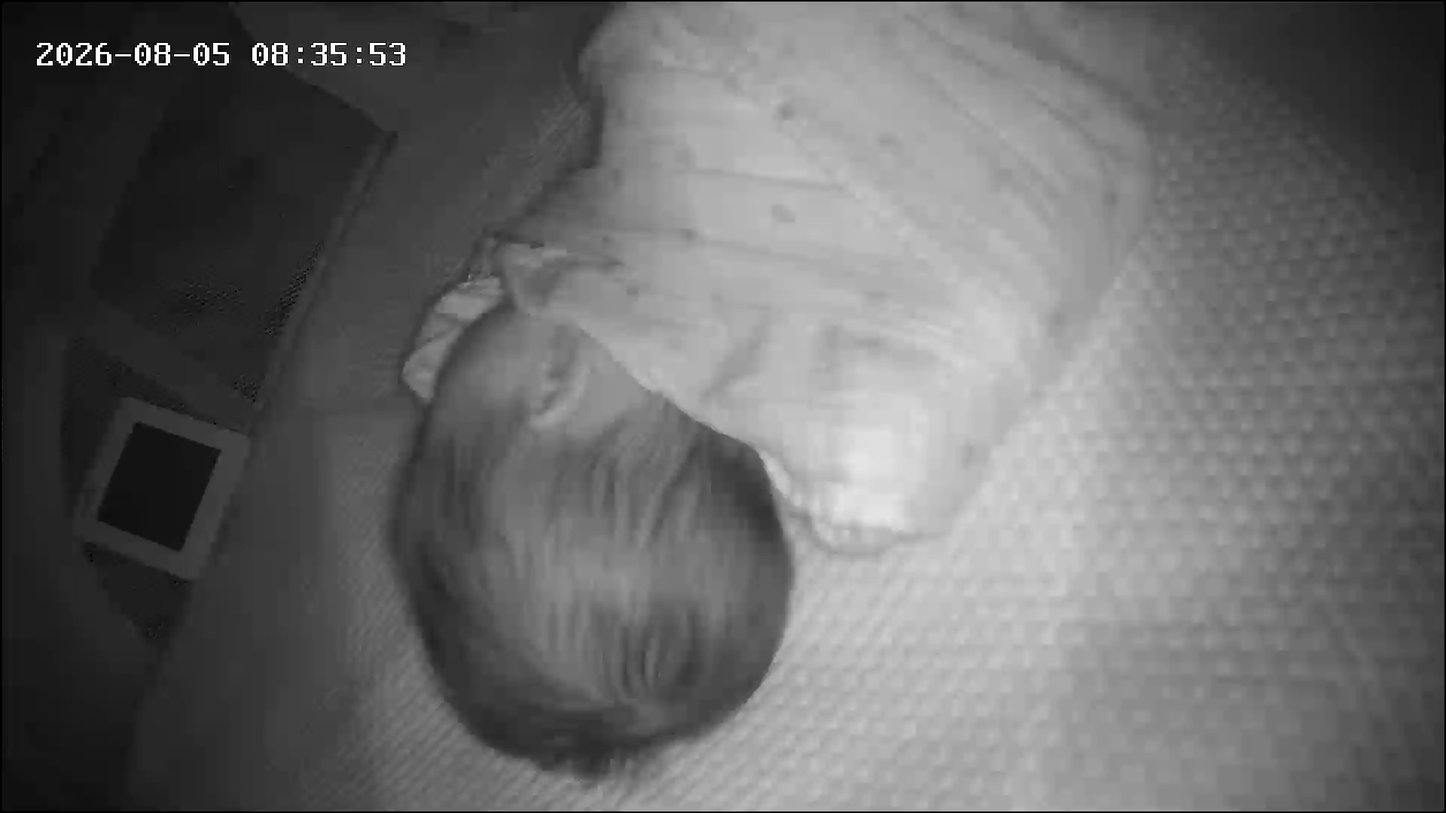baby: (123, 2, 819, 801)
baby_face: (386, 274, 802, 779)
